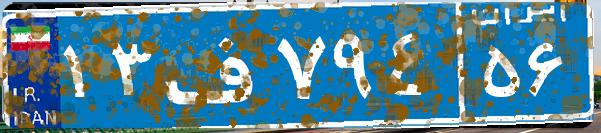1: (57, 26, 110, 107)
3: (110, 28, 158, 105)
4: (385, 28, 445, 110)
5: (475, 38, 525, 113)
6: (525, 38, 570, 115)
7: (273, 28, 330, 110)
9: (330, 28, 385, 110)
ف: (158, 15, 273, 115)
